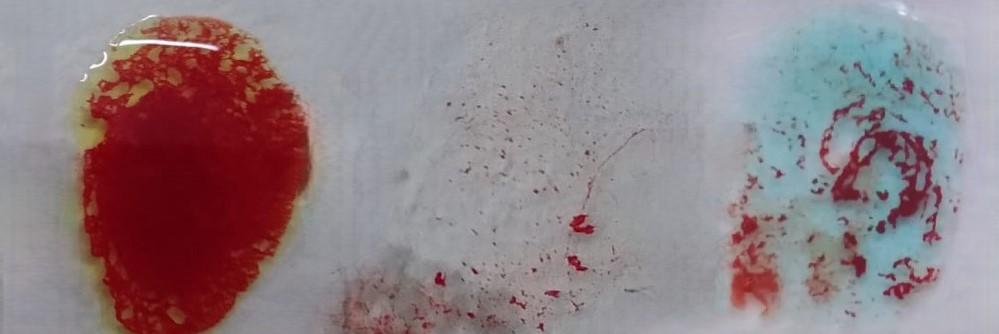A: (729, 14, 948, 316)
B: (76, 14, 304, 334)
D: (370, 50, 622, 334)
